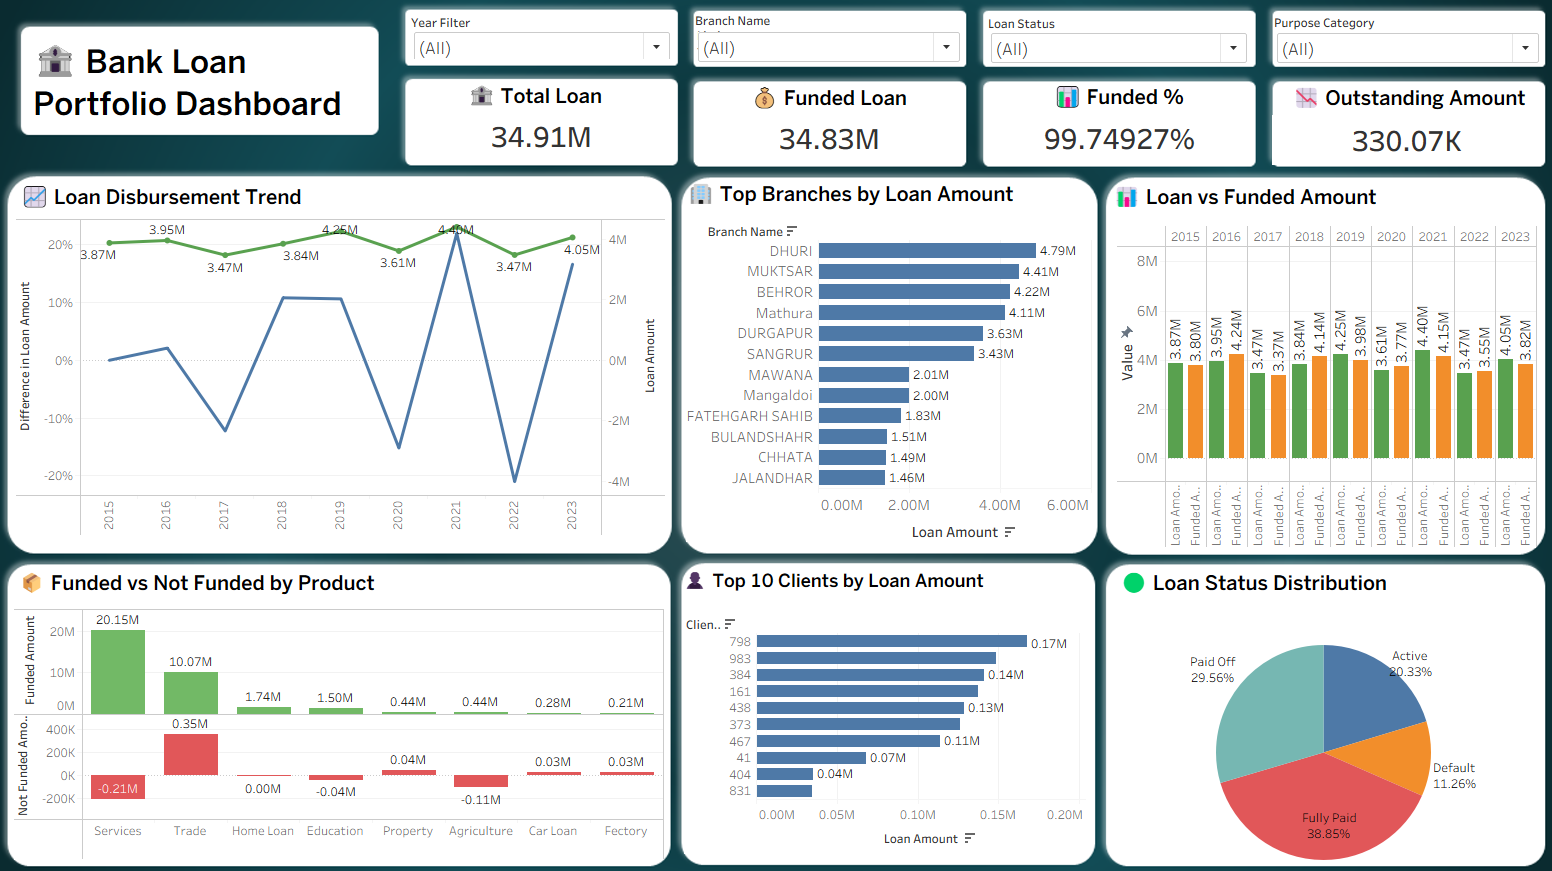

The page's visual inventory and layout, read from the dashboard file:
{"tool":"tableau","page":{"name":"Dashboard 1","canvas":[1600,900],"ordinal":0},"visuals":[{"type":"image","param":"Image/TWBX Background 2.png","box":[8,8,1584,884]},{"type":"filter","title":"D1 V8","param":"[federated.1c7sutw1hrty661ce25051w0xlcc].[none:Branch Name:nk]","box":[709,24,268,53]},{"type":"filter","title":"D1 V5 Year","param":"[federated.1c7sutw1hrty661ce25051w0xlcc].[yr:Calculation_1414974755704152064:ok]","box":[425,26,262,45]},{"type":"filter","title":"D1 V9","param":"[federated.1c7sutw1hrty661ce25051w0xlcc].[none:Purpose Category:nk]","box":[1288,26,268,50]},{"type":"filter","title":"D1 V7","param":"[federated.1c7sutw1hrty661ce25051w0xlcc].[none:Loan Status:nk]","box":[1002,27,262,48]},{"type":"text","box":[43,51,340,89]},{"type":"text","box":[415,95,268,30]},{"type":"text","box":[999,96,268,30]},{"type":"text","box":[709,97,268,30]},{"type":"text","box":[1289,97,268,30]},{"type":"worksheet","title":"D1 V1","mark":"Automatic","box":[424,123,264,50]},{"type":"worksheet","title":"D1 V2","mark":"Automatic","box":[708,127,272,47]},{"type":"worksheet","title":"D1 V3","mark":"Automatic","box":[1000,127,268,46]},{"type":"worksheet","title":"D1 V4","mark":"Automatic","box":[1286,127,270,50]},{"type":"text","box":[697,194,333,28]},{"type":"text","box":[31,196,297,30]},{"type":"text","box":[1123,196,297,30]},{"type":"worksheet","title":"D1 V5 Year","mark":"Automatic","rows":["Loan Amount"],"cols":["Calculation_1414974755704152064"],"box":[30,231,650,317]},{"type":"worksheet","title":"D1 V8","mark":"Automatic","rows":["Branch Name"],"cols":["Loan Amount"],"box":[700,232,406,322]},{"type":"worksheet","title":"D1 V6 Year","mark":"Bar","cols":["Calculation_1414974755704152064"],"box":[1120,234,438,332]},{"type":"text","box":[693,580,310,30]},{"type":"text","box":[28,582,365,30]},{"type":"text","box":[1130,582,310,30]},{"type":"worksheet","title":"D1 V9","mark":"Automatic","rows":["Funded Amount","Calculation_1414974755704246273"],"cols":["Purpose Category"],"box":[28,621,650,251]},{"type":"worksheet","title":"D1 V10","mark":"Automatic","rows":["Client id"],"cols":["Loan Amount"],"box":[698,625,402,241]},{"type":"worksheet","title":"D1 V7","mark":"Pie","box":[1128,657,419,215]}]}

Visuals, with their boxes in screenshot pixels (x1, y1, x2, y2), scaled from the page's 1600x900 canvas onto the 1552x871 screenshot:
image: <box>8,8,1544,863</box>
"D1 V8" filter: <box>688,23,948,75</box>
"D1 V5 Year" filter: <box>412,25,666,69</box>
"D1 V9" filter: <box>1249,25,1509,74</box>
"D1 V7" filter: <box>972,26,1226,73</box>
text: <box>42,49,372,135</box>
text: <box>403,92,663,121</box>
text: <box>969,93,1229,122</box>
text: <box>688,94,948,123</box>
text: <box>1250,94,1510,123</box>
"D1 V1" worksheet: <box>411,119,667,167</box>
"D1 V2" worksheet: <box>687,123,951,168</box>
"D1 V3" worksheet: <box>970,123,1230,167</box>
"D1 V4" worksheet: <box>1247,123,1509,171</box>
text: <box>676,188,999,215</box>
text: <box>30,190,318,219</box>
text: <box>1089,190,1377,219</box>
"D1 V5 Year" worksheet: <box>29,224,660,530</box>
"D1 V8" worksheet: <box>679,225,1073,536</box>
"D1 V6 Year" worksheet (Bar marks): <box>1086,226,1511,548</box>
text: <box>672,561,973,590</box>
text: <box>27,563,381,592</box>
text: <box>1096,563,1397,592</box>
"D1 V9" worksheet: <box>27,601,658,844</box>
"D1 V10" worksheet: <box>677,605,1067,838</box>
"D1 V7" worksheet (Pie marks): <box>1094,636,1501,844</box>
